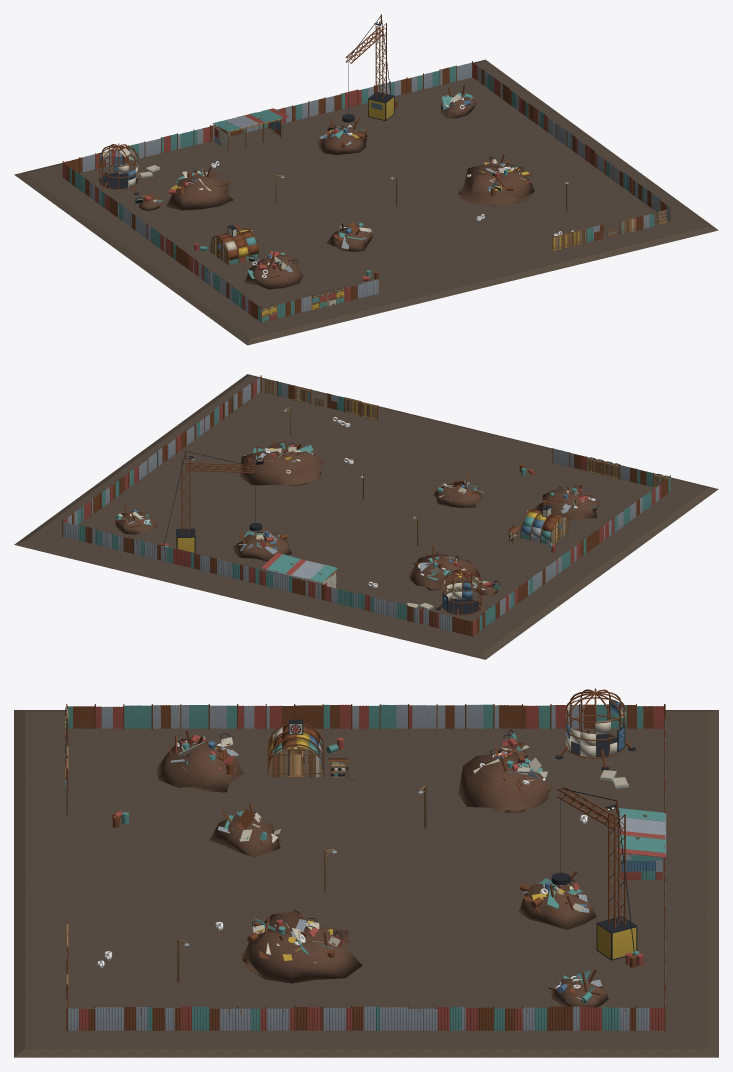
Rendered from farmbot_scrapyard.glb.
The picture shows the model from 3 angles, top to bottom: view 1: azimuth 30°, elevation 25°; view 2: azimuth 150°, elevation 25°; view 3: azimuth 270°, elevation 25°; orthographic projection. The views are drawn at different scales.
Parts seen in each view (by area): view 1: farmbot_scrapyard.001; view 2: farmbot_scrapyard.001; view 3: farmbot_scrapyard.001.
Boxes of the visible parts, box(x1,y1,x2,y2) form: farmbot_scrapyard.001: box(14, 14, 718, 345); farmbot_scrapyard.001: box(14, 374, 718, 659); farmbot_scrapyard.001: box(14, 688, 718, 1057).
Size of what is drawn, in the model's own units: 70 by 14.7 by 60.
54 materials, 53 textured.
